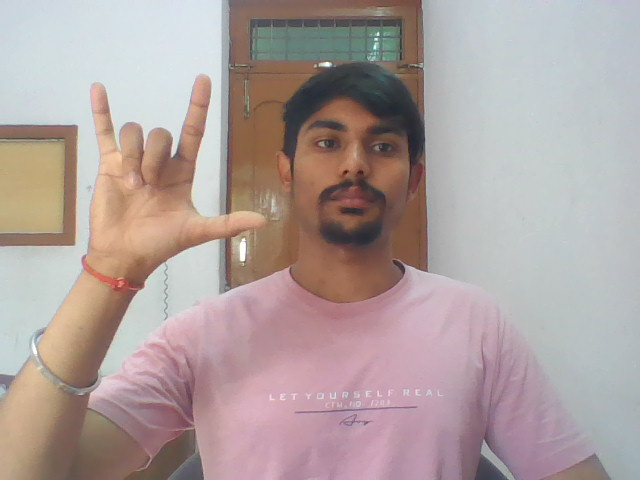I Love You: (73, 70, 272, 249)
